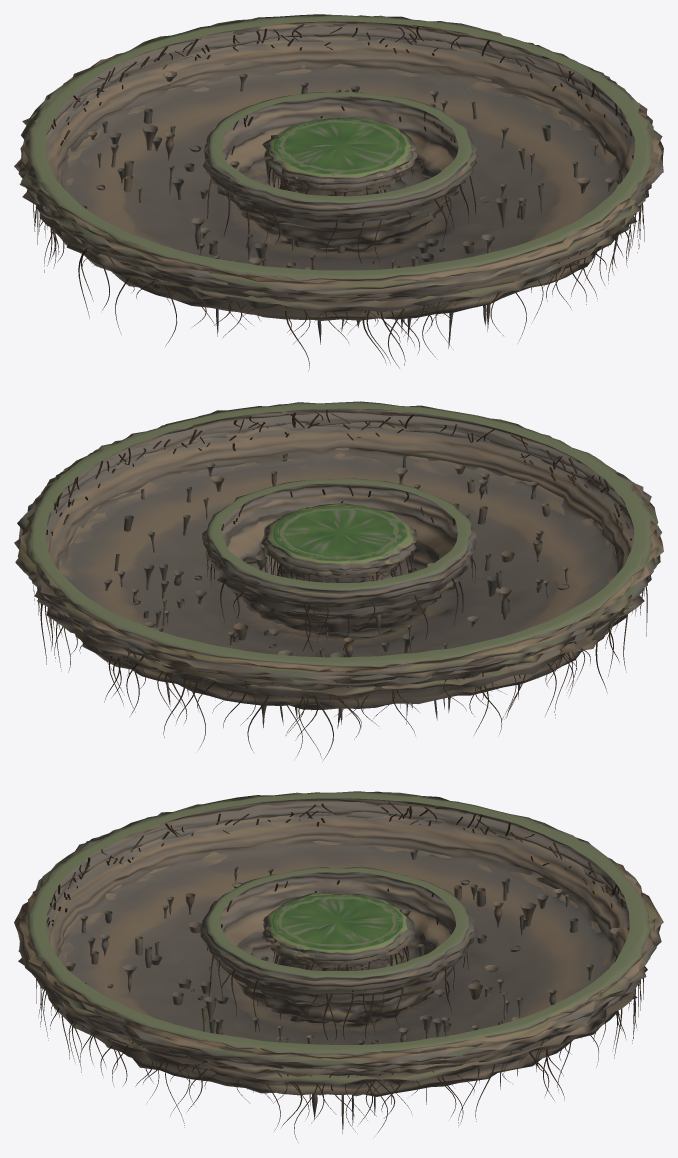
Rendered from arch_vh_island.1848641e9a.glb.
3 renders of one model, top to bottom at view 1: azimuth 30°, elevation 25°; view 2: azimuth 150°, elevation 25°; view 3: azimuth 270°, elevation 25°, orthographic.
Visible parts, largest first — view 1: vhrock_thach_quy_dao, vhrock_loi_van_dao, vhrock_hub, vhrock_kinh_ngu_dai, vhrock_kinh_ho_dao, vhrock_tung_dai_dao, vhfake_b, vhfake_a, vhrock_tieu_dao; view 2: vhrock_thach_quy_dao, vhrock_loi_van_dao, vhrock_hub, vhrock_kinh_ngu_dai, vhrock_kinh_ho_dao, vhrock_tung_dai_dao, vhfake_b, vhfake_a, vhrock_tieu_dao; view 3: vhrock_thach_quy_dao, vhrock_loi_van_dao, vhrock_hub, vhrock_kinh_ngu_dai, vhrock_kinh_ho_dao, vhrock_tung_dai_dao, vhfake_b, vhfake_a, vhrock_tieu_dao.
Part boxes in pixels (bbox=[...]): vhrock_thach_quy_dao: bbox=[24, 16, 652, 335]; vhrock_loi_van_dao: bbox=[14, 14, 663, 348]; vhrock_hub: bbox=[203, 92, 478, 263]; vhrock_kinh_ngu_dai: bbox=[21, 15, 651, 346]; vhrock_kinh_ho_dao: bbox=[33, 18, 644, 365]; vhrock_tung_dai_dao: bbox=[28, 19, 644, 371]; vhfake_b: bbox=[262, 117, 413, 194]; vhfake_a: bbox=[263, 118, 417, 195]; vhrock_tieu_dao: bbox=[264, 118, 416, 196]; vhrock_thach_quy_dao: bbox=[25, 404, 651, 711]; vhrock_loi_van_dao: bbox=[14, 404, 663, 728]; vhrock_hub: bbox=[202, 478, 476, 651]; vhrock_kinh_ngu_dai: bbox=[22, 401, 654, 740]; vhrock_kinh_ho_dao: bbox=[37, 405, 647, 756]; vhrock_tung_dai_dao: bbox=[33, 406, 639, 760]; vhfake_b: bbox=[261, 503, 418, 582]; vhfake_a: bbox=[266, 507, 414, 582]; vhrock_tieu_dao: bbox=[263, 506, 416, 582]; vhrock_thach_quy_dao: bbox=[27, 793, 636, 1114]; vhrock_loi_van_dao: bbox=[14, 792, 663, 1133]; vhrock_hub: bbox=[200, 866, 476, 1040]; vhrock_kinh_ngu_dai: bbox=[23, 791, 648, 1127]; vhrock_kinh_ho_dao: bbox=[39, 794, 643, 1130]; vhrock_tung_dai_dao: bbox=[37, 795, 644, 1142]; vhfake_b: bbox=[262, 892, 415, 970]; vhfake_a: bbox=[264, 894, 408, 970]; vhrock_tieu_dao: bbox=[261, 894, 415, 970].
Bounding box in the file's own units: 446 × 113 × 452.
